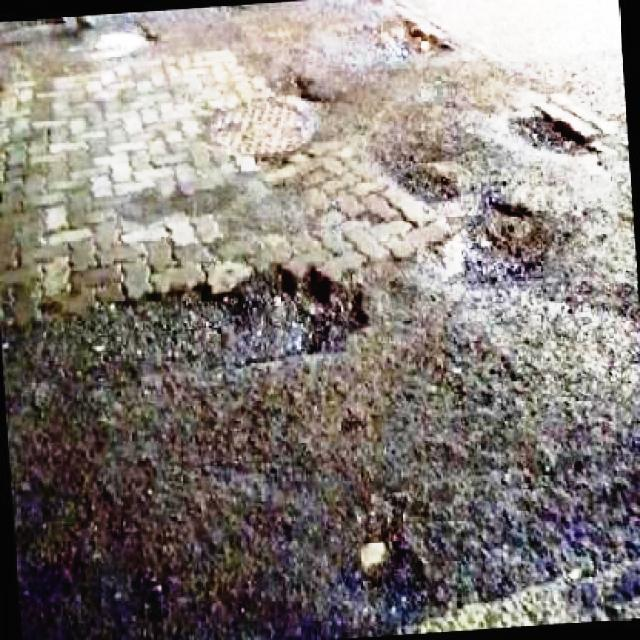pothole: (100, 257, 377, 380), (451, 195, 569, 294), (503, 108, 600, 164), (396, 152, 462, 205), (384, 20, 456, 60), (271, 69, 340, 109)
